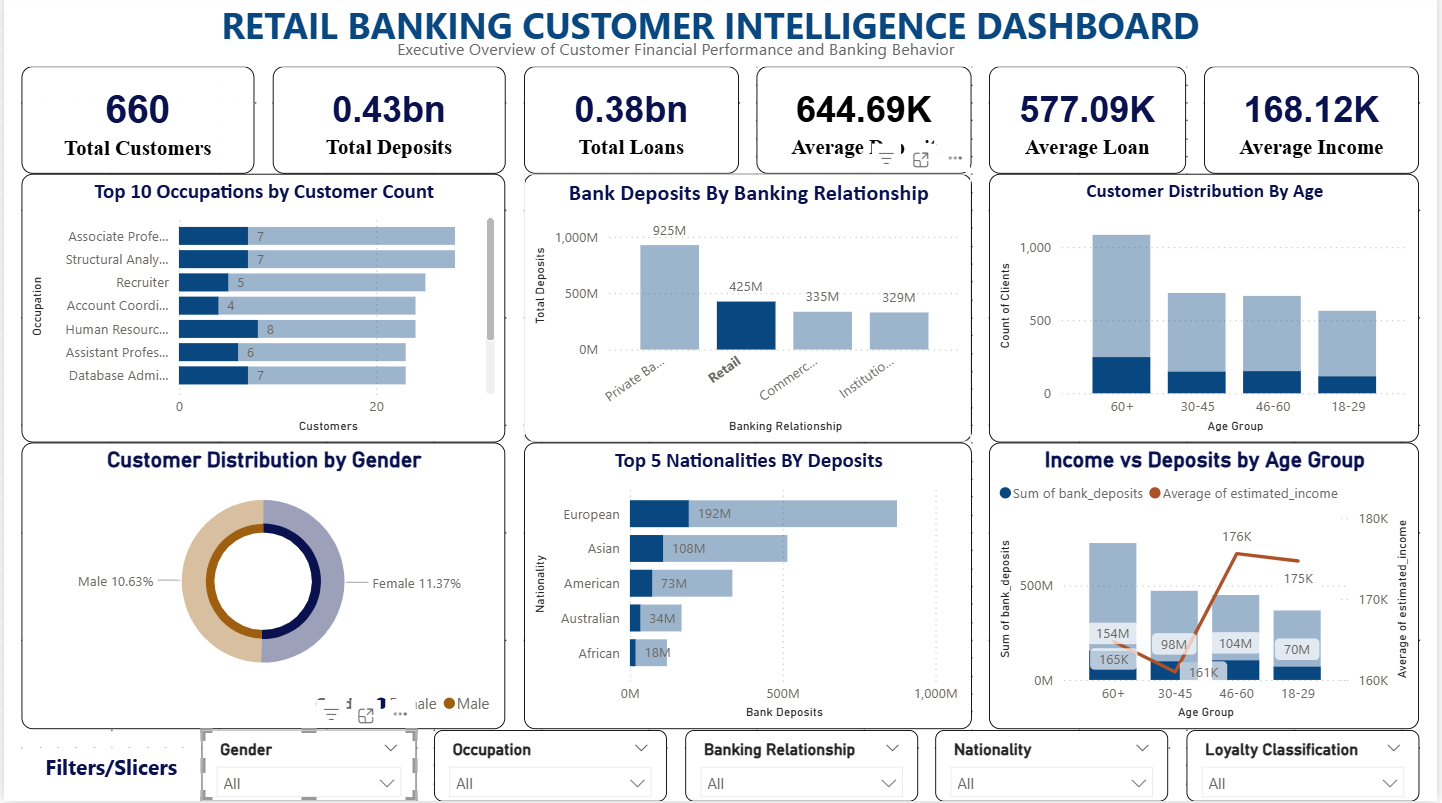

The page's visual inventory and layout, read from the dashboard file:
{"tool":"powerbi","page":{"name":"Executive Dashboard","canvas":[1280,720],"ordinal":0},"visuals":[{"type":"card","fields":{"Values":["clean_banking_data.Total Customers"]},"box":[16,64,208,96],"z":0},{"type":"card","fields":{"Values":["clean_banking_data.Average Loan"]},"box":[880,64,176,96],"z":1},{"type":"card","fields":{"Values":["clean_banking_data.Average Deposit"]},"box":[672,64,192,96],"z":2},{"type":"card","fields":{"Values":["clean_banking_data.Total Deposits"]},"box":[240,64,208,96],"z":3},{"type":"card","fields":{"Values":["clean_banking_data.Average Income"]},"box":[1072,64,192,96],"z":4},{"type":"card","fields":{"Values":["clean_banking_data.Total Loans"]},"box":[464,64,192,96],"z":5},{"type":"clusteredBarChart","title":"Top 10 Occupations by Customer Count","fields":{"Category":["clean_banking_data.occupation"],"Y":["CountNonNull(clean_banking_data.client_id)"]},"box":[16,160,432,240],"z":6},{"type":"clusteredColumnChart","title":"Bank Deposits By Banking Relationship","fields":{"Category":["clean_banking_data.banking_relationship"],"Y":["Sum(clean_banking_data.bank_deposits)"]},"box":[464,160,400,240],"z":7},{"type":"donutChart","title":"Customer Distribution by Gender","fields":{"Category":["clean_banking_data.gender"],"Y":["CountNonNull(clean_banking_data.client_id)"]},"box":[16,400,432,256],"z":8},{"type":"clusteredBarChart","title":"Top 5 Nationalities BY Deposits","fields":{"Category":["clean_banking_data.nationality"],"Y":["Sum(clean_banking_data.bank_deposits)"]},"box":[464,400,400,256],"z":9},{"type":"columnChart","title":"Customer Distribution By Age","fields":{"Category":["clean_banking_data.Age Group"],"Y":["CountNonNull(clean_banking_data.client_id)"]},"box":[880,160,384,240],"z":10},{"type":"lineClusteredColumnComboChart","title":"Income vs Deposits by Age Group","fields":{"Category":["clean_banking_data.Age Group"],"Y":["Sum(clean_banking_data.bank_deposits)"],"Y2":["Avg(clean_banking_data.estimated_income)"]},"box":[880,400,384,256],"z":11},{"type":"textbox","box":[16,0,1248,64],"z":12},{"type":"slicer","fields":{"Values":["clean_banking_data.gender"]},"box":[176,656,192,64],"z":13},{"type":"slicer","fields":{"Values":["clean_banking_data.occupation"]},"box":[384,656,208,64],"z":14},{"type":"slicer","fields":{"Values":["clean_banking_data.banking_relationship"]},"box":[608,656,208,64],"z":15},{"type":"slicer","fields":{"Values":["clean_banking_data.nationality"]},"box":[832,656,208,64],"z":16},{"type":"slicer","fields":{"Values":["clean_banking_data.loyalty_classification"]},"box":[1056,656,208,64],"z":17},{"type":"textbox","box":[16,672,160,48],"z":18},{"type":"textbox","box":[240,32,720,32],"z":19}]}

Visuals, with their boxes in screenshot pixels (x1, y1, x2, y2), scaled from the page's 1280x720 canvas onto the 1442x803 screenshot:
card - clean_banking_data.Total Customers: <bbox>18, 71, 252, 178</bbox>
card - clean_banking_data.Average Loan: <bbox>991, 71, 1190, 178</bbox>
card - clean_banking_data.Average Deposit: <bbox>757, 71, 973, 178</bbox>
card - clean_banking_data.Total Deposits: <bbox>270, 71, 505, 178</bbox>
card - clean_banking_data.Average Income: <bbox>1208, 71, 1424, 178</bbox>
card - clean_banking_data.Total Loans: <bbox>523, 71, 739, 178</bbox>
"Top 10 Occupations by Customer Count" clusteredBarChart: <bbox>18, 178, 505, 446</bbox>
"Bank Deposits By Banking Relationship" clusteredColumnChart: <bbox>523, 178, 973, 446</bbox>
"Customer Distribution by Gender" donutChart: <bbox>18, 446, 505, 732</bbox>
"Top 5 Nationalities BY Deposits" clusteredBarChart: <bbox>523, 446, 973, 732</bbox>
"Customer Distribution By Age" columnChart: <bbox>991, 178, 1424, 446</bbox>
"Income vs Deposits by Age Group" lineClusteredColumnComboChart: <bbox>991, 446, 1424, 732</bbox>
textbox: <bbox>18, 0, 1424, 71</bbox>
slicer - clean_banking_data.gender: <bbox>198, 732, 415, 802</bbox>
slicer - clean_banking_data.occupation: <bbox>433, 732, 667, 802</bbox>
slicer - clean_banking_data.banking_relationship: <bbox>685, 732, 919, 802</bbox>
slicer - clean_banking_data.nationality: <bbox>937, 732, 1172, 802</bbox>
slicer - clean_banking_data.loyalty_classification: <bbox>1190, 732, 1424, 802</bbox>
textbox: <bbox>18, 749, 198, 802</bbox>
textbox: <bbox>270, 36, 1082, 71</bbox>
